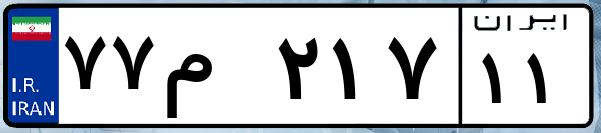1: (330, 28, 385, 110), (475, 38, 525, 113), (525, 38, 570, 115)
2: (270, 28, 330, 110)
7: (385, 28, 445, 110), (57, 26, 110, 100), (110, 28, 158, 98)
م: (158, 20, 270, 120)
